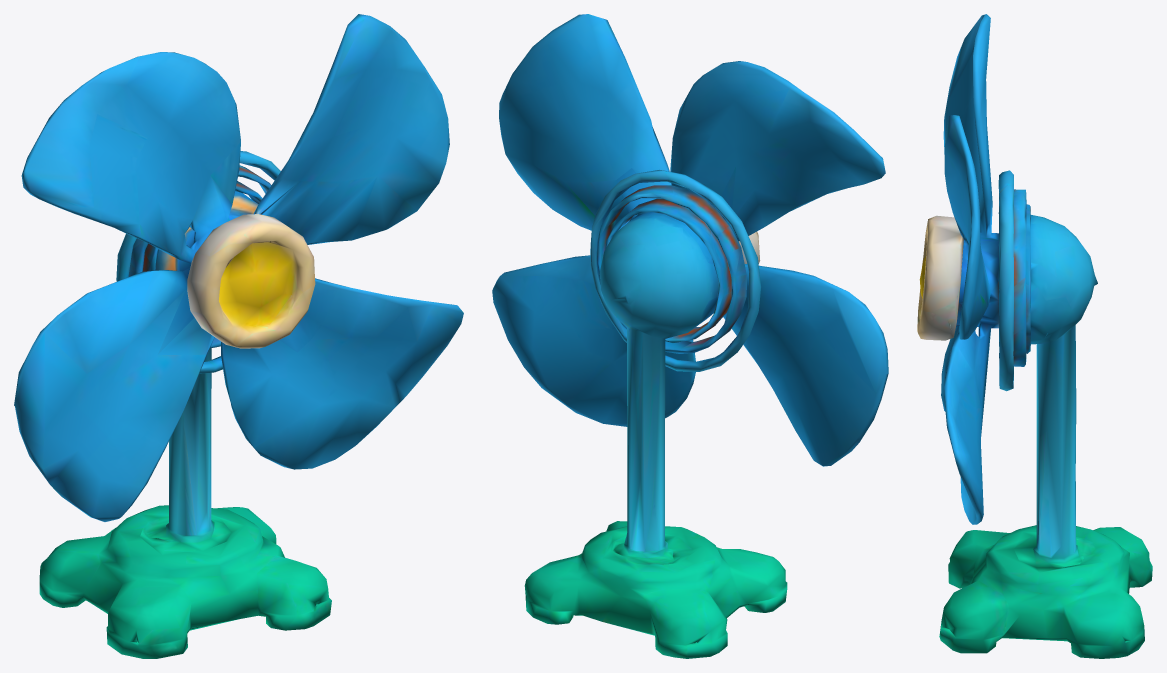
The model's file is fan.glb.
The picture shows the model from 3 angles, left to right: view 1: azimuth 30°, elevation 25°; view 2: azimuth 150°, elevation 25°; view 3: azimuth 270°, elevation 25°; orthographic projection. The views are drawn at different scales.
Parts seen in each view (by area): view 1: tripo_node_21fcc139-44c1-435e-9102-da597bbcfdcf; view 2: tripo_node_21fcc139-44c1-435e-9102-da597bbcfdcf; view 3: tripo_node_21fcc139-44c1-435e-9102-da597bbcfdcf.
Boxes of the visible parts, box(x1,y1,x2,y2) form: tripo_node_21fcc139-44c1-435e-9102-da597bbcfdcf: box(14, 14, 463, 658); tripo_node_21fcc139-44c1-435e-9102-da597bbcfdcf: box(492, 14, 888, 658); tripo_node_21fcc139-44c1-435e-9102-da597bbcfdcf: box(917, 14, 1152, 658).
Size of the model in its own units: 0.7816 by 0.9992 by 0.3876.
1 material, 1 textured.
